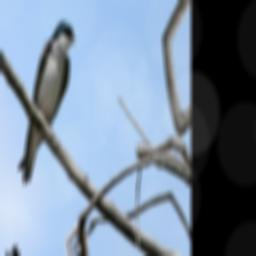Swallow: (16, 7, 79, 203)
